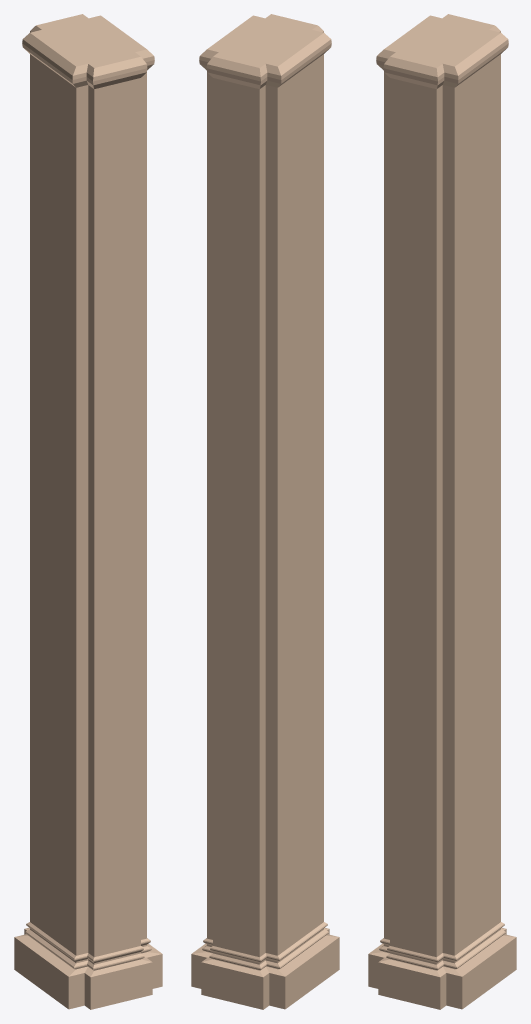
Rendered from BC_InsidePillar_J.fbx.
The picture shows the model from 3 angles, left to right: view 1: azimuth 30°, elevation 25°; view 2: azimuth 150°, elevation 25°; view 3: azimuth 330°, elevation 25°; orthographic projection.
Visible parts, largest first — view 1: BC_InsidePillar_J; view 2: BC_InsidePillar_J; view 3: BC_InsidePillar_J.
Boxes of the visible parts, bbox=[...] form: BC_InsidePillar_J: bbox=[14, 14, 162, 1009]; BC_InsidePillar_J: bbox=[191, 14, 339, 1009]; BC_InsidePillar_J: bbox=[368, 14, 516, 1009].
Size of the model in its own units: 245 by 2338 by 300.
